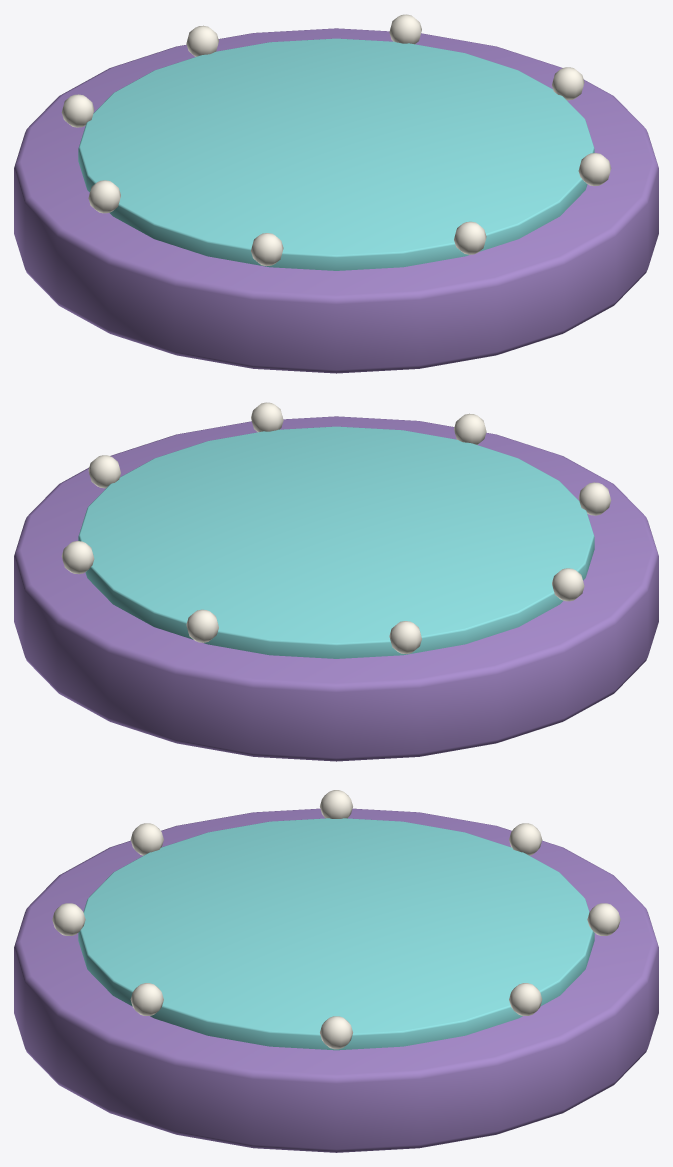
Rendered from showcase_plinth.glb.
3 views of the same model, one above another, from view 1: azimuth 30°, elevation 25°; view 2: azimuth 150°, elevation 25°; view 3: azimuth 270°, elevation 25° (orthographic).
Parts seen in each view (by area): view 1: Inset, Base, Pearl_4.004, Pearl_6, Pearl_5, Pearl_7, Pearl_3.004, Pearl_0.004, Pearl_2.004, Pearl_1.004; view 2: Inset, Base, Pearl_4.004, Pearl_2.004, Pearl_3.004, Pearl_1.004, Pearl_5, Pearl_0.004, Pearl_6, Pearl_7; view 3: Inset, Base, Pearl_0.004, Pearl_1.004, Pearl_7, Pearl_2.004, Pearl_6, Pearl_3.004, Pearl_5, Pearl_4.004.
Boxes of the visible parts, left/top/right/bottom form: Inset: left=78, top=38, right=594, bottom=270; Base: left=14, top=28, right=658, bottom=373; Pearl_4.004: left=88, top=180, right=120, bottom=213; Pearl_6: left=454, top=221, right=486, bottom=254; Pearl_5: left=251, top=233, right=283, bottom=265; Pearl_7: left=578, top=153, right=611, bottom=186; Pearl_3.004: left=61, top=94, right=94, bottom=127; Pearl_0.004: left=552, top=67, right=584, bottom=100; Pearl_2.004: left=186, top=25, right=218, bottom=56; Pearl_1.004: left=389, top=14, right=421, bottom=44; Inset: left=78, top=426, right=594, bottom=658; Base: left=14, top=416, right=658, bottom=761; Pearl_4.004: left=552, top=568, right=584, bottom=601; Pearl_2.004: left=186, top=609, right=218, bottom=642; Pearl_3.004: left=389, top=621, right=421, bottom=653; Pearl_1.004: left=61, top=541, right=94, bottom=574; Pearl_5: left=578, top=482, right=611, bottom=515; Pearl_0.004: left=88, top=455, right=120, bottom=488; Pearl_6: left=454, top=413, right=486, bottom=444; Pearl_7: left=251, top=402, right=283, bottom=432; Inset: left=78, top=818, right=594, bottom=1050; Base: left=14, top=808, right=658, bottom=1152; Pearl_0.004: left=320, top=1016, right=352, bottom=1049; Pearl_1.004: left=509, top=983, right=542, bottom=1015; Pearl_7: left=130, top=983, right=163, bottom=1015; Pearl_2.004: left=587, top=903, right=620, bottom=935; Pearl_6: left=52, top=903, right=85, bottom=935; Pearl_3.004: left=509, top=823, right=542, bottom=855; Pearl_5: left=130, top=823, right=163, bottom=855; Pearl_4.004: left=320, top=790, right=352, bottom=818.
Bounding box in the file's own units: 2.7 × 0.53 × 2.7.
